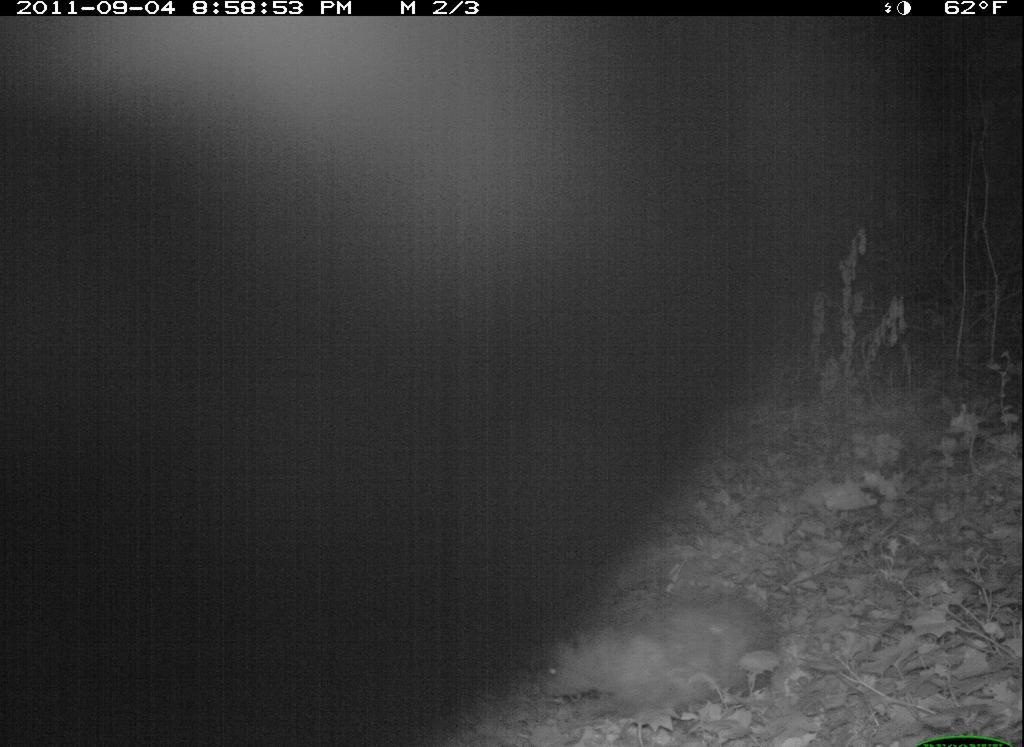opossum: (539, 584, 785, 721)
